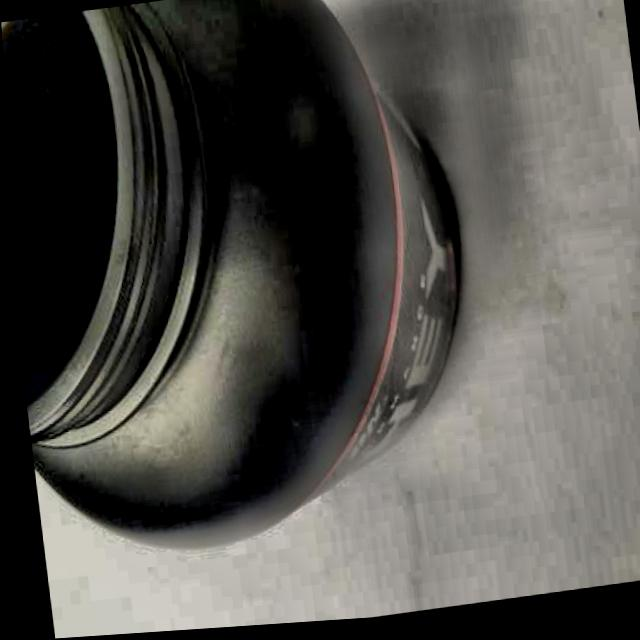Plastic: (0, 0, 496, 596)
